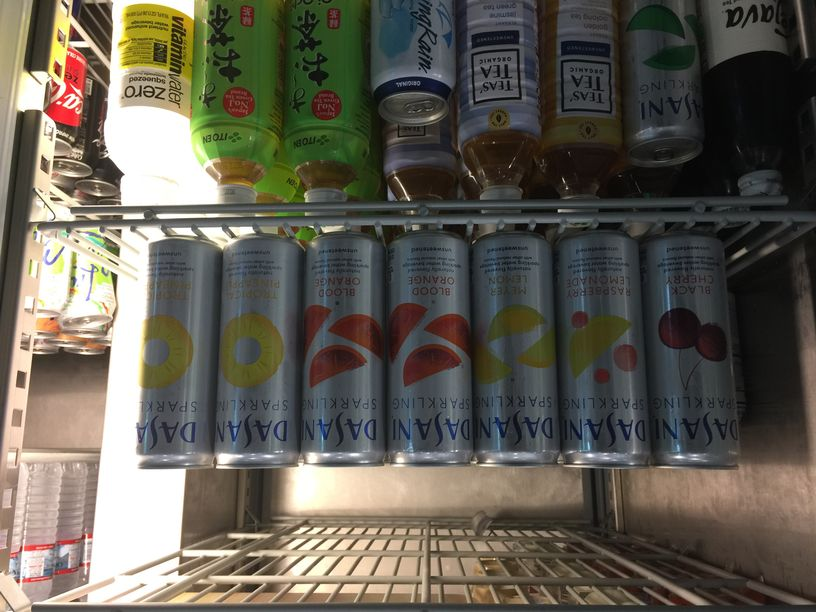blackcherry: (644, 233, 738, 468)
blood_orange: (388, 233, 471, 467), (305, 234, 385, 467)
competitor_02: (371, 1, 455, 127)
lemon: (471, 232, 556, 464)
lemonade: (556, 232, 650, 468)
lime: (623, 1, 704, 168)
pineapple: (134, 235, 217, 470), (217, 235, 299, 467)
